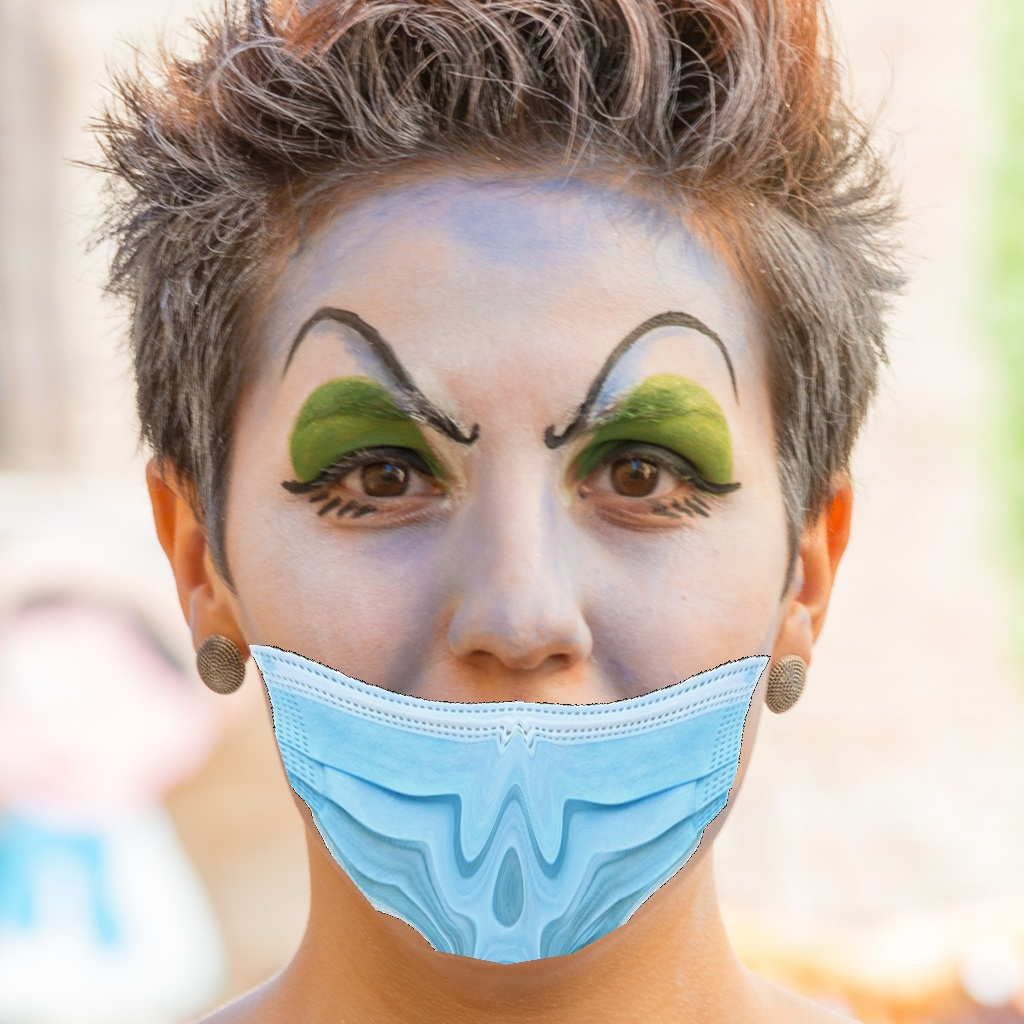mask_weared_incorrect: (194, 294, 809, 974)
